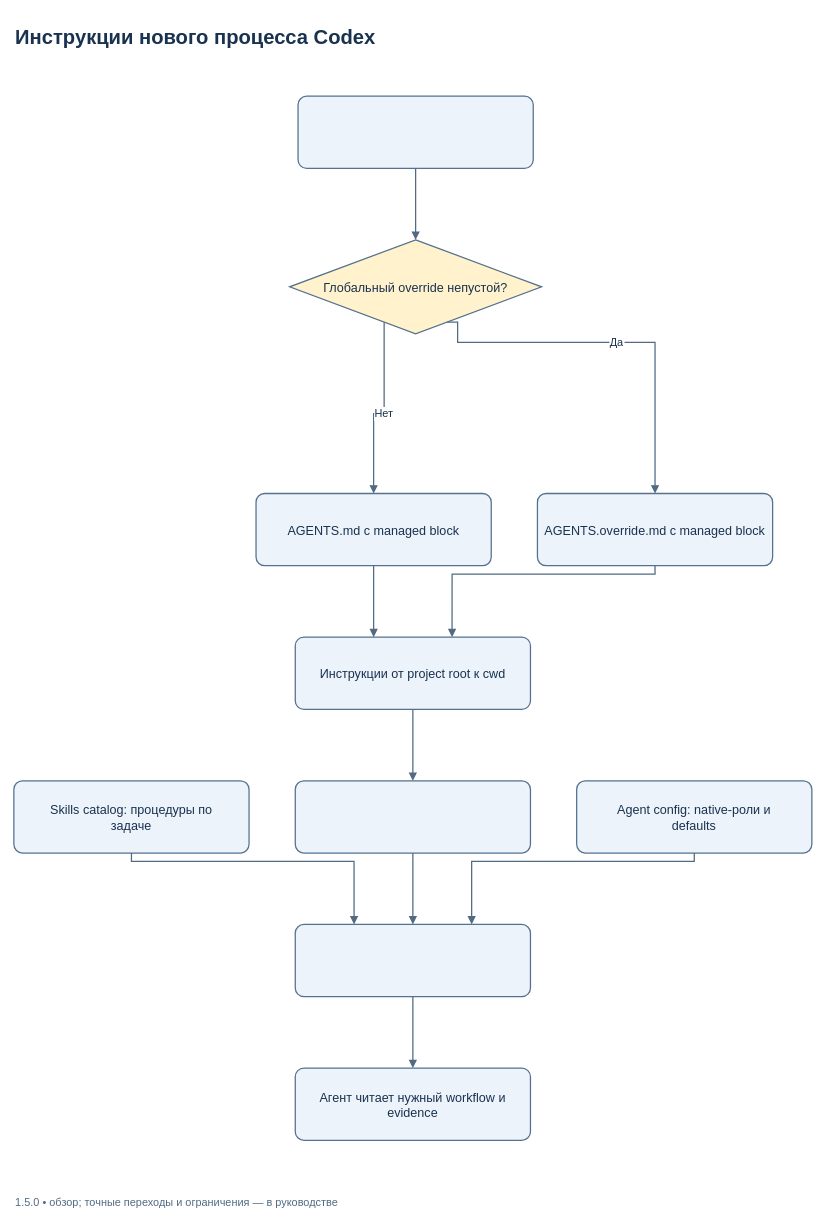
This 826x1230 diagram has some shape labels left out. Here are the shapes that lost their labels. From the top down, the box of each, then its label:
(297, 95, 533, 169): Новая сессия: выбранный Codex home
(294, 780, 531, 853): Более локальные правила и byte limit
(294, 923, 531, 997): Model input нового процесса
